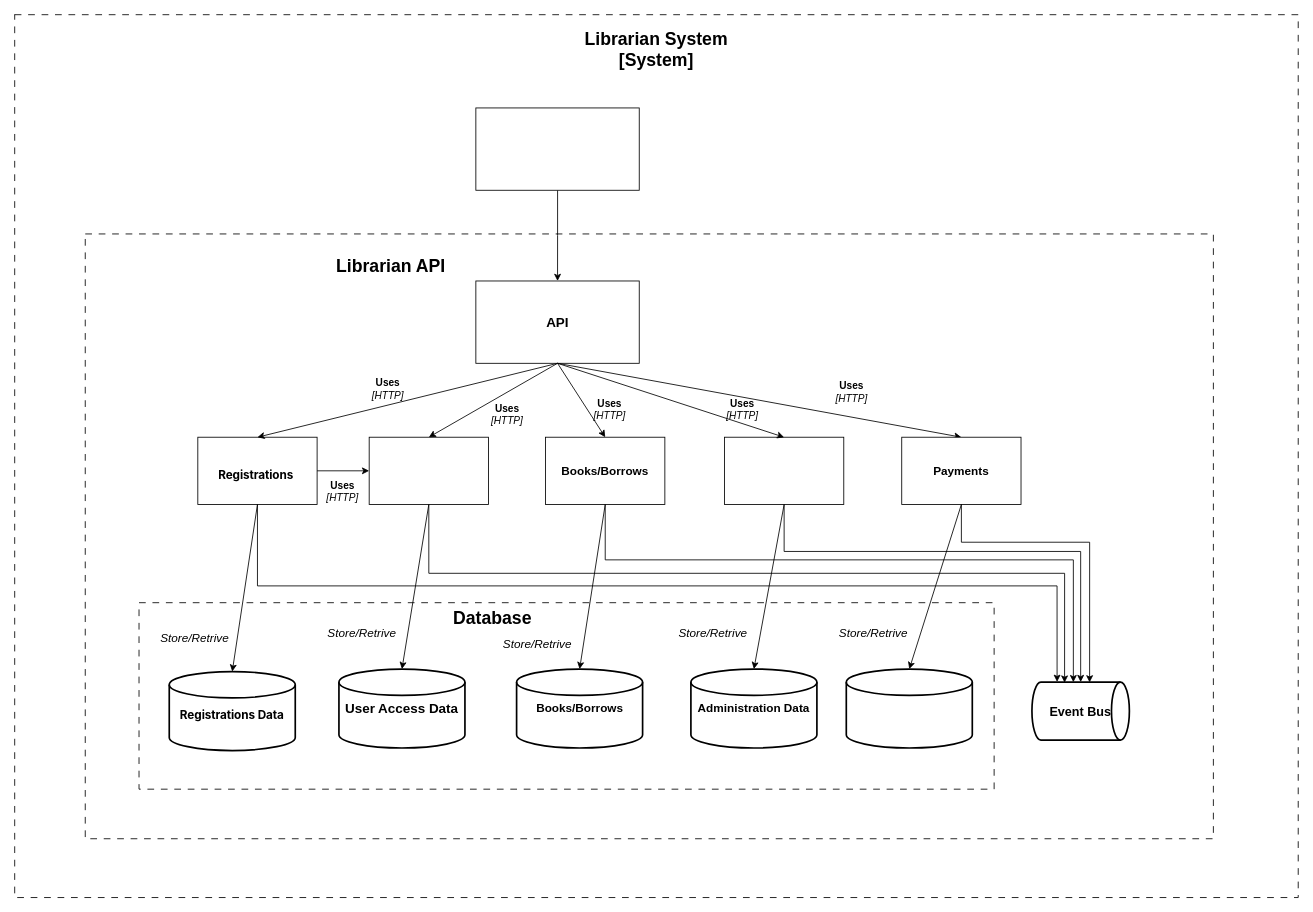
This 1313x912 diagram has some shape labels left out. The shapes that lost their labels are listed below. From the top down, each one's centre as x and y in pixels, then its label:
point (557, 148): SPA [ReactJS] GUI for the application
point (428, 470): User Access
point (784, 470): Administration
point (909, 708): Payments Data
